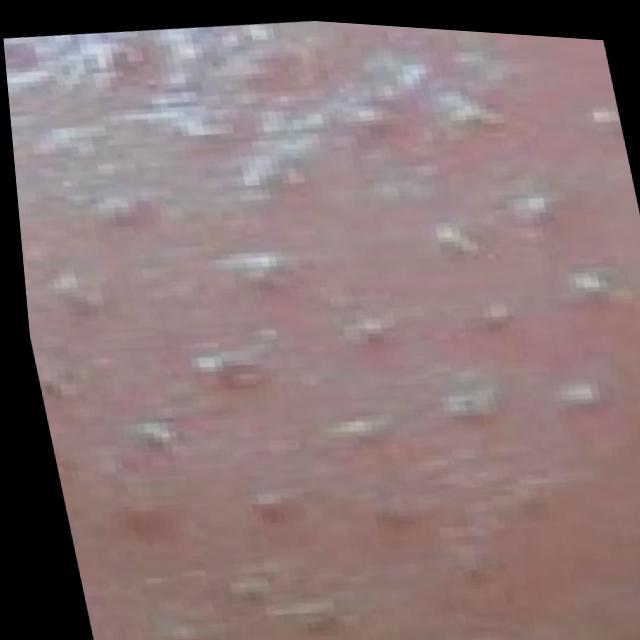whitehead: (16, 44, 640, 640)
